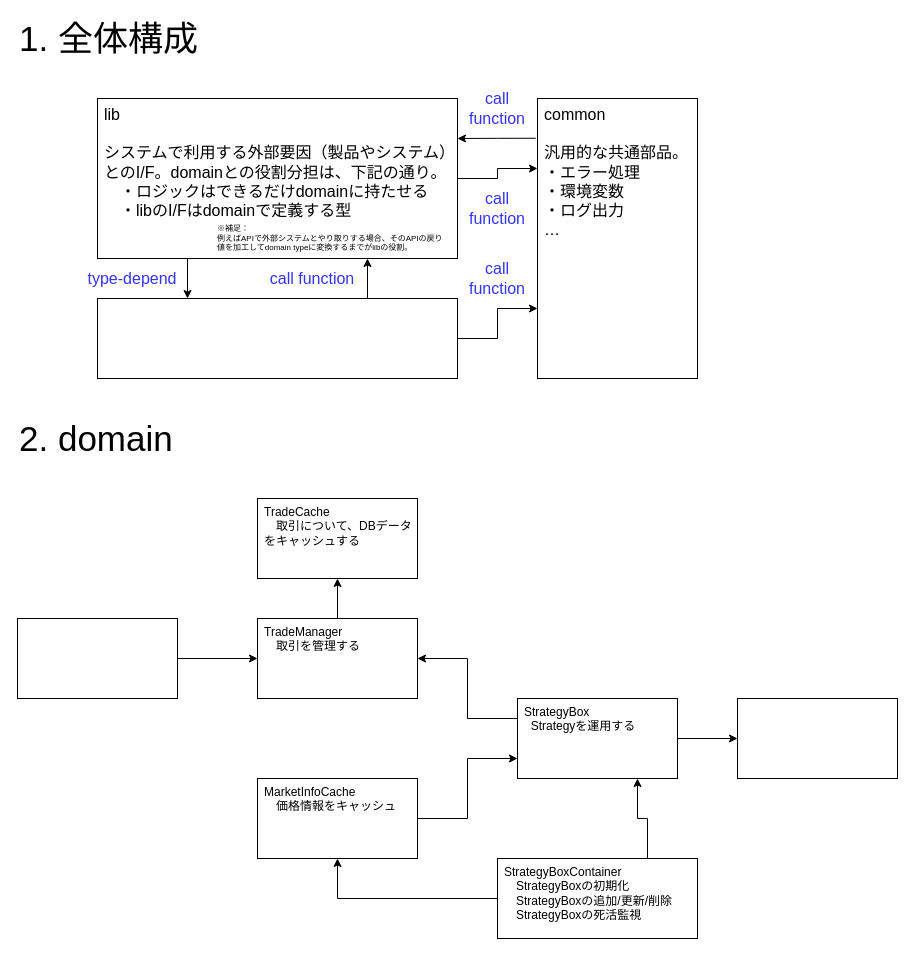
Some shapes in this 915 by 956 pixel diagram are drawn without their labels. Each missing label, with the centre of its shape:
domain 本システムのロジック。: (x=277, y=338)
ExecutionMonitor 約定したか監視する: (x=97, y=658)
Strategy 投資戦略: (x=817, y=738)
